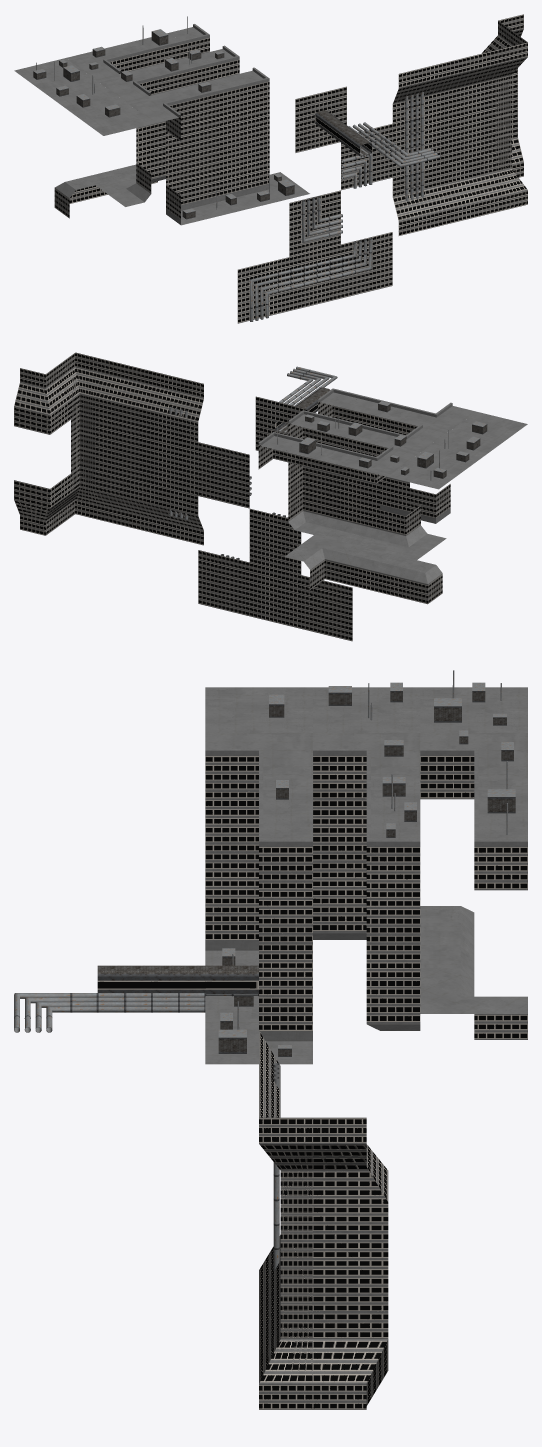
File: CityTilesDetailed.fbx
3 views of the same model, one above another, from view 1: azimuth 30°, elevation 25°; view 2: azimuth 150°, elevation 25°; view 3: azimuth 270°, elevation 25° (orthographic). The views are drawn at different scales.
Parts seen in each view (by area): view 1: BeveledWallBottom, BeveledWallBottomPipe, BeveledWallPipeRightBottom, BeveledWall, BeveledWallPipeTopRight, BeveledWallPipeHorizontal, Wall, BeveledWallPipeTopLeft, BeveledWallTopPipe, BeveledWallTop, BridgeEnd, BeveledWallPipe (+30 smaller); view 2: BeveledWallTopPipe, BeveledWallTop, BeveledWallTopInnerEdge, BeveledWallPipe, BeveledWallPipeHorizontal, BeveledWallPipeLeftBottom, BeveledWallPipeTopLeft, BeveledWall, BeveledWallPipeRightBottom, BeveledWallPipeTopRight, BeveledWallBottomPipe, BeveledWallBottom (+29 smaller); view 3: BeveledWallBottomInnerEdge, BeveledWallInnerEdge, TopToWallEdge, WallTopInnerEdge.002, WallTopInnerEdge, WallTopInnerEdge.001, BeveledWallTopInnerEdge, WallEdge.001, WallEdge, WallInnerEdge, WallInnerEdge.001, Top.001 (+25 smaller).
Boxes of the visible parts, x1,y1,x2,y2 form: BeveledWallBottom: [444, 152, 501, 223]; BeveledWallBottomPipe: [392, 165, 450, 235]; BeveledWallPipeRightBottom: [237, 257, 291, 323]; BeveledWall: [444, 98, 496, 164]; BeveledWallPipeTopRight: [289, 190, 342, 256]; BeveledWallPipeHorizontal: [289, 244, 342, 310]; Wall: [192, 112, 243, 178]; BeveledWallPipeTopLeft: [341, 232, 392, 298]; BeveledWallTopPipe: [392, 61, 450, 123]; BeveledWallTop: [444, 49, 501, 110]; BridgeEnd: [295, 86, 346, 152]; BeveledWallPipe: [392, 111, 444, 177]; BeveledWallTopPipe: [146, 371, 203, 441]; BeveledWallTop: [95, 359, 152, 429]; BeveledWallTopInnerEdge: [14, 363, 70, 434]; BeveledWallPipe: [146, 429, 198, 495]; BeveledWallPipeHorizontal: [249, 562, 301, 628]; BeveledWallPipeLeftBottom: [198, 442, 251, 508]; BeveledWallPipeTopLeft: [198, 550, 249, 616]; BeveledWall: [95, 417, 146, 483]; BeveledWallPipeRightBottom: [301, 575, 352, 641]; BeveledWallPipeTopRight: [249, 508, 301, 574]; BeveledWallBottomPipe: [146, 483, 203, 545]; BeveledWallBottom: [95, 471, 152, 532]; BeveledWallBottomInnerEdge: [313, 1303, 388, 1409]; BeveledWallInnerEdge: [313, 1206, 388, 1303]; TopToWallEdge: [205, 988, 312, 1064]; WallTopInnerEdge.002: [420, 730, 527, 799]; WallTopInnerEdge: [205, 733, 312, 799]; WallTopInnerEdge.001: [313, 733, 420, 799]; BeveledWallTopInnerEdge: [313, 1117, 388, 1205]; WallEdge.001: [366, 890, 420, 987]; WallEdge: [259, 890, 312, 987]; WallInnerEdge: [205, 799, 258, 896]; WallInnerEdge.001: [313, 799, 366, 896]; Top.001: [313, 682, 420, 732].
Size of the model in its own units: 1800 by 961 by 956.
